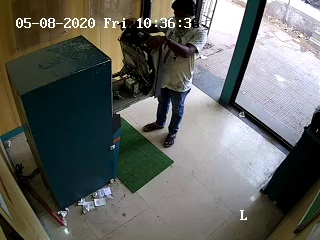open: (135, 3, 276, 131)
